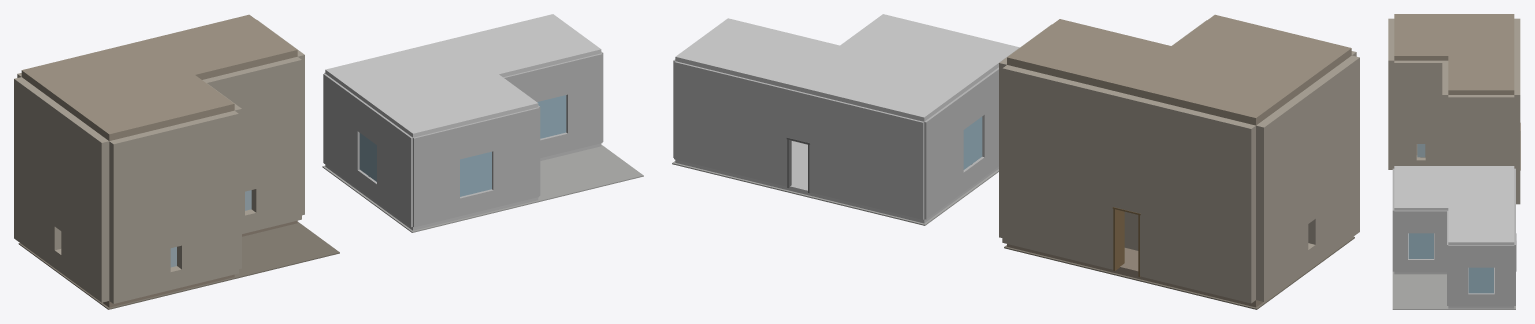
The picture shows the model from 3 angles, left to right: view 1: azimuth 30°, elevation 25°; view 2: azimuth 150°, elevation 25°; view 3: azimuth 270°, elevation 25°; orthographic projection. The views are drawn at different scales.
Visible parts, largest first — view 1: medieval_002, modern_002, medieval_014, medieval_017, medieval_012, medieval_027, medieval_009, modern_017, modern_014, modern_000, medieval_000, modern_012 (+19 smaller); view 2: medieval_002, medieval_003, medieval_005, modern_002, modern_003, modern_005, medieval_009, medieval_012, modern_009, medieval_004, modern_001, modern_012 (+11 smaller); view 3: medieval_002, modern_002, medieval_022, modern_000, medieval_029, medieval_032, medieval_019, modern_029, modern_032, medieval_005, medieval_017, modern_022 (+17 smaller).
Boxes of the visible parts, x1,y1,x2,y2 form: medieval_002: [21, 14, 297, 140]; modern_002: [325, 14, 601, 137]; medieval_014: [109, 127, 170, 303]; medieval_017: [177, 110, 238, 287]; medieval_012: [61, 111, 109, 302]; medieval_027: [251, 57, 301, 230]; medieval_009: [14, 77, 61, 267]; modern_017: [492, 107, 539, 208]; modern_014: [413, 126, 459, 227]; modern_000: [322, 144, 643, 232]; medieval_000: [18, 222, 339, 309]; modern_012: [377, 112, 412, 227]; medieval_002: [1007, 14, 1351, 125]; medieval_003: [1139, 98, 1255, 303]; medieval_005: [1002, 65, 1118, 269]; modern_002: [675, 14, 1019, 121]; modern_003: [809, 94, 924, 219]; modern_005: [674, 61, 788, 186]; medieval_009: [1256, 93, 1308, 301]; medieval_012: [1308, 55, 1359, 263]; modern_009: [924, 94, 963, 219]; medieval_004: [1114, 92, 1143, 213]; modern_001: [675, 141, 998, 223]; modern_012: [982, 67, 998, 176]; medieval_002: [1394, 14, 1514, 94]; modern_002: [1394, 166, 1514, 244]; medieval_022: [1394, 60, 1416, 165]; modern_000: [1392, 271, 1515, 309]; medieval_029: [1486, 95, 1514, 165]; medieval_032: [1448, 95, 1476, 165]; medieval_019: [1425, 60, 1448, 165]; modern_029: [1494, 245, 1514, 306]; modern_032: [1448, 245, 1468, 306]; medieval_005: [1514, 60, 1520, 204]; medieval_017: [1388, 41, 1394, 169]; modern_022: [1394, 210, 1407, 272].
Size of the model in its own units: 28.49 by 8.77 by 8.8.
